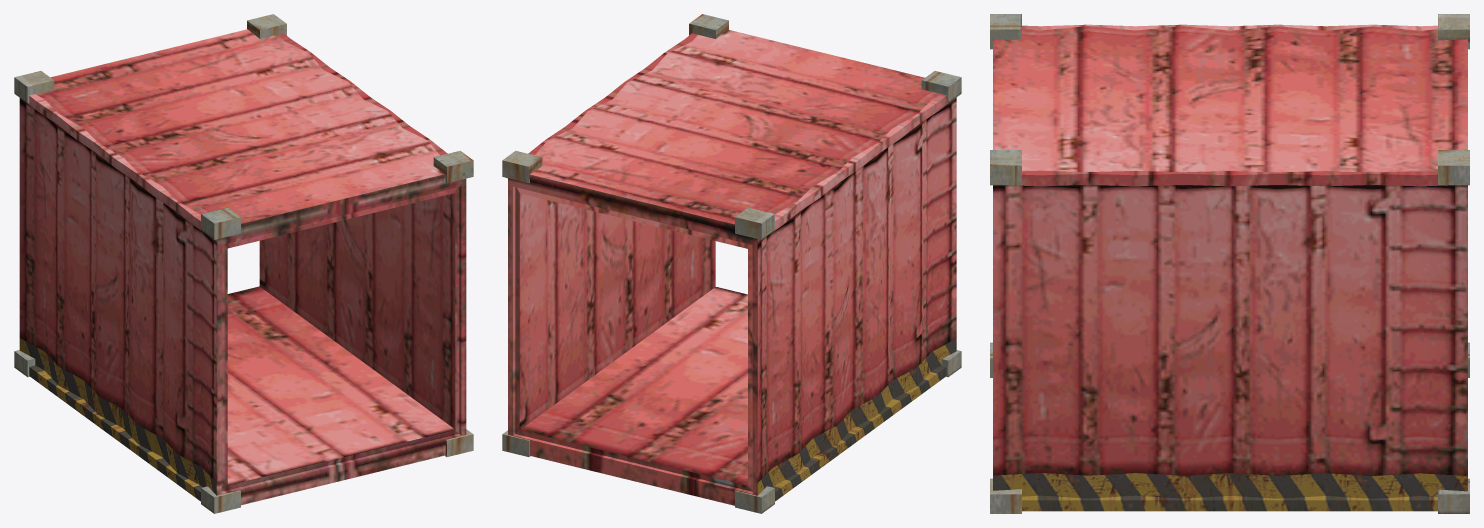
File: ContainerShortOpen1_SM.fbx
3 views of the same model, side by side, from view 1: azimuth 30°, elevation 25°; view 2: azimuth 150°, elevation 25°; view 3: azimuth 270°, elevation 25° (orthographic). The views are drawn at different scales.
Visible parts, largest first — view 1: Box015; view 2: Box015; view 3: Box015.
Boxes of the visible parts, box(x1,y1,x2,y2) form: Box015: box(14, 14, 473, 513); Box015: box(502, 14, 961, 513); Box015: box(990, 14, 1469, 513).
Size of the model in its own units: 238 by 255 by 318.
